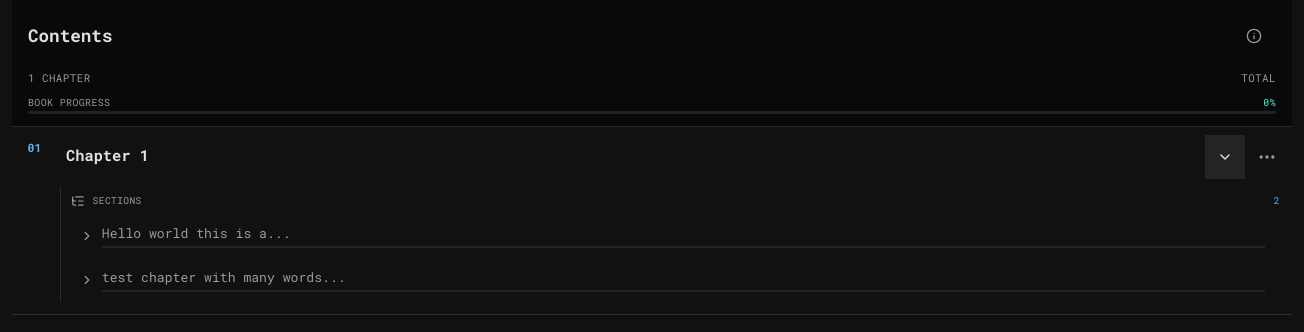
Test: Sidebar V2 › keeps provenance explanation behind the contents menu
Expected: the text "This file did not include a reliable contents list" is not shown
Click the button named "More contents options" at (1254, 36), box [1232, 14, 1276, 58]
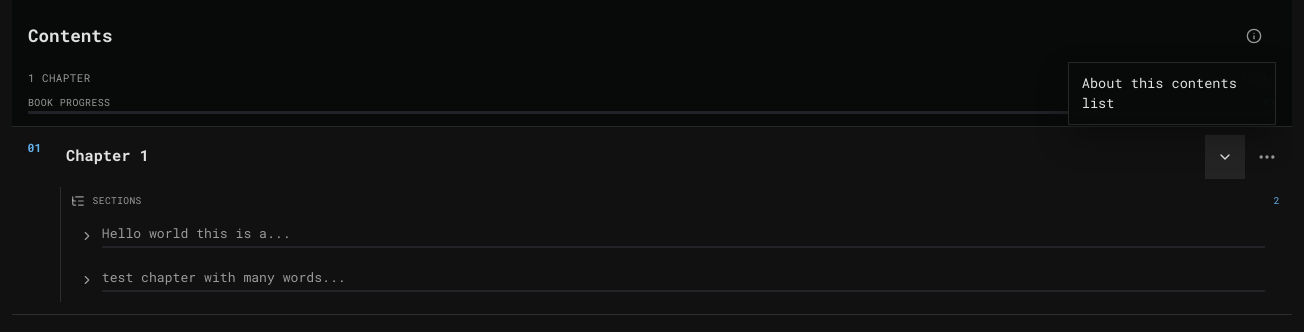
Click the menu item "About this contents list" at (1172, 93), box [1069, 63, 1275, 124]
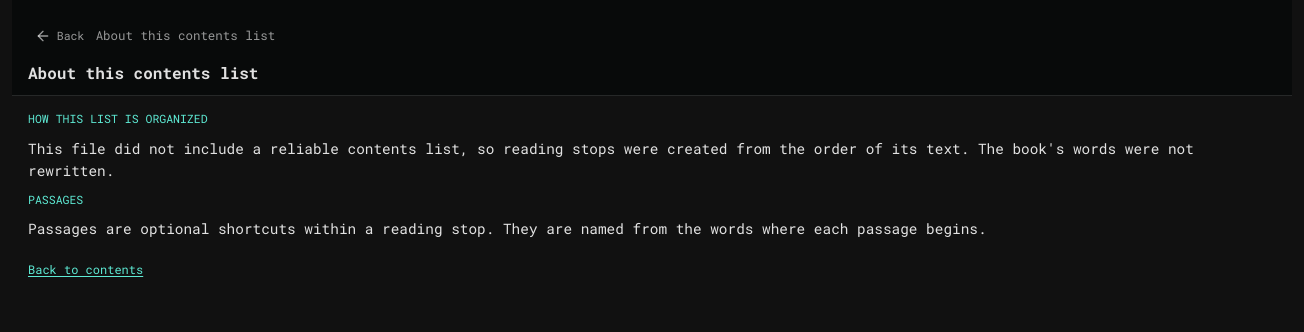
Expected: the heading "About this contents list" is shown, [28, 62, 258, 83]
Expected: the text "This file did not include a reliable contents list" is shown, [28, 138, 1194, 180]
Expected: the text "Passages are optional shortcuts" is shown, [28, 219, 987, 238]
